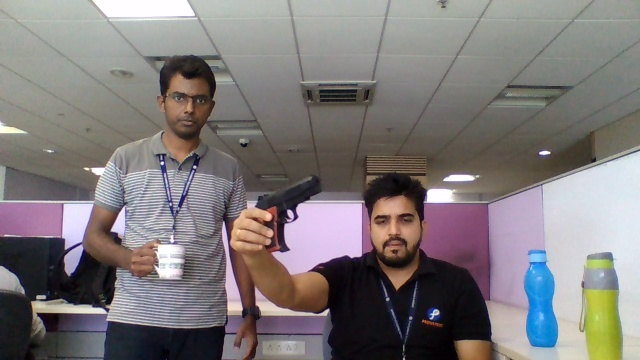gun: (274, 174, 322, 254)
